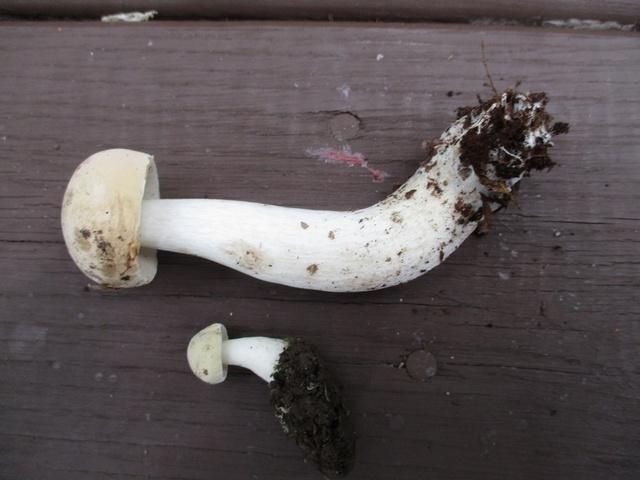Edible Mushroom: (59, 84, 569, 294), (185, 316, 352, 480)
